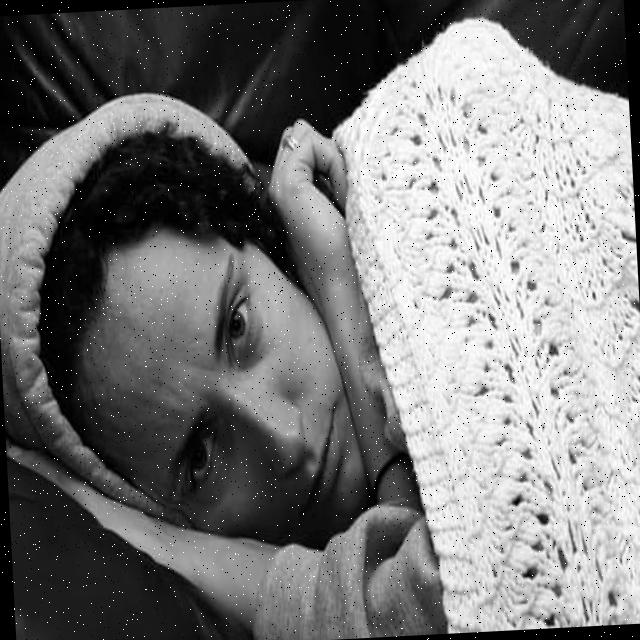Sadness: (76, 231, 367, 542)
